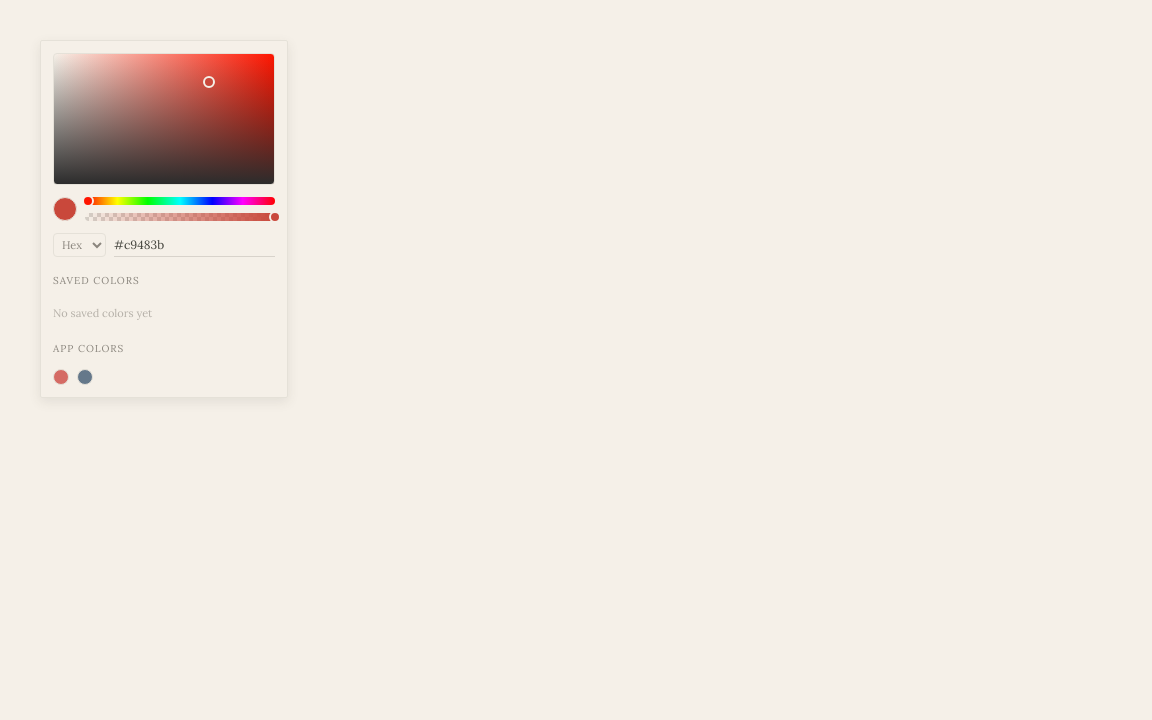
Scenario: ColorPickerPopover › channel fields › splits RGB into separate R, G and B fields
This screenshot has width=1152, height=720.
Select "RGB" in the dropdown named "Color format" at (80, 245), box [53, 233, 106, 257]
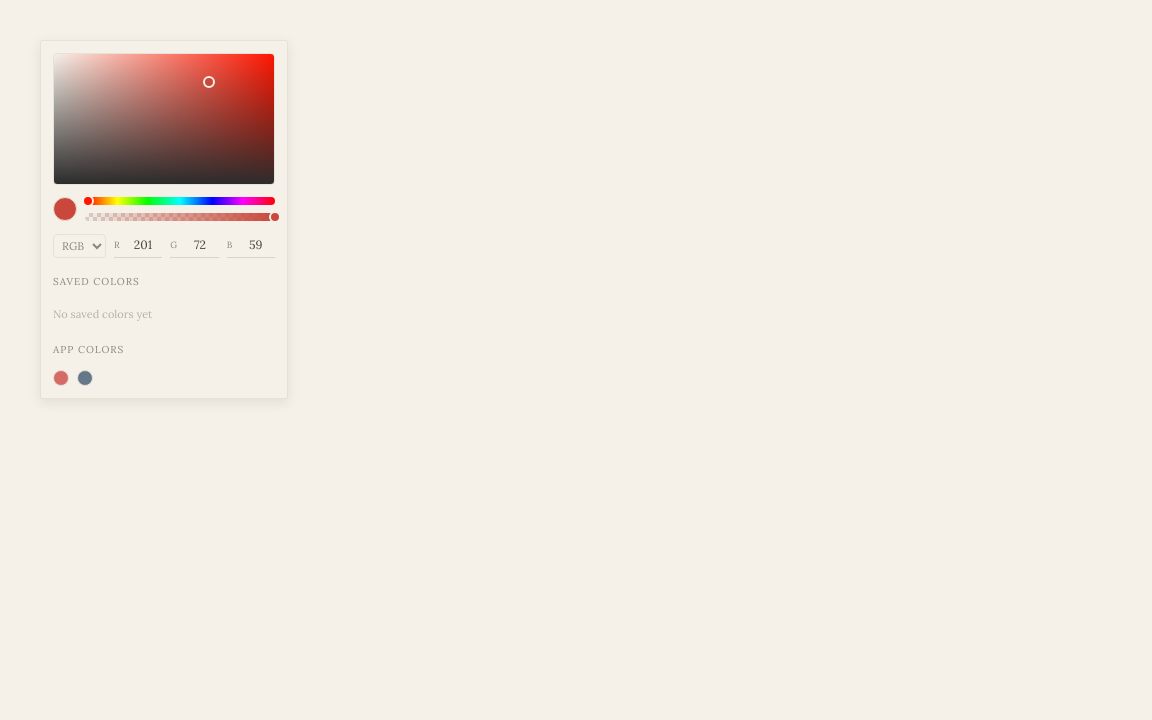
Result: the field named "Red" holds "201" at [124, 233, 162, 257]
Result: the field named "Green" holds "72" at [181, 233, 219, 257]
Result: the field named "Blue" holds "59" at [236, 233, 275, 257]
